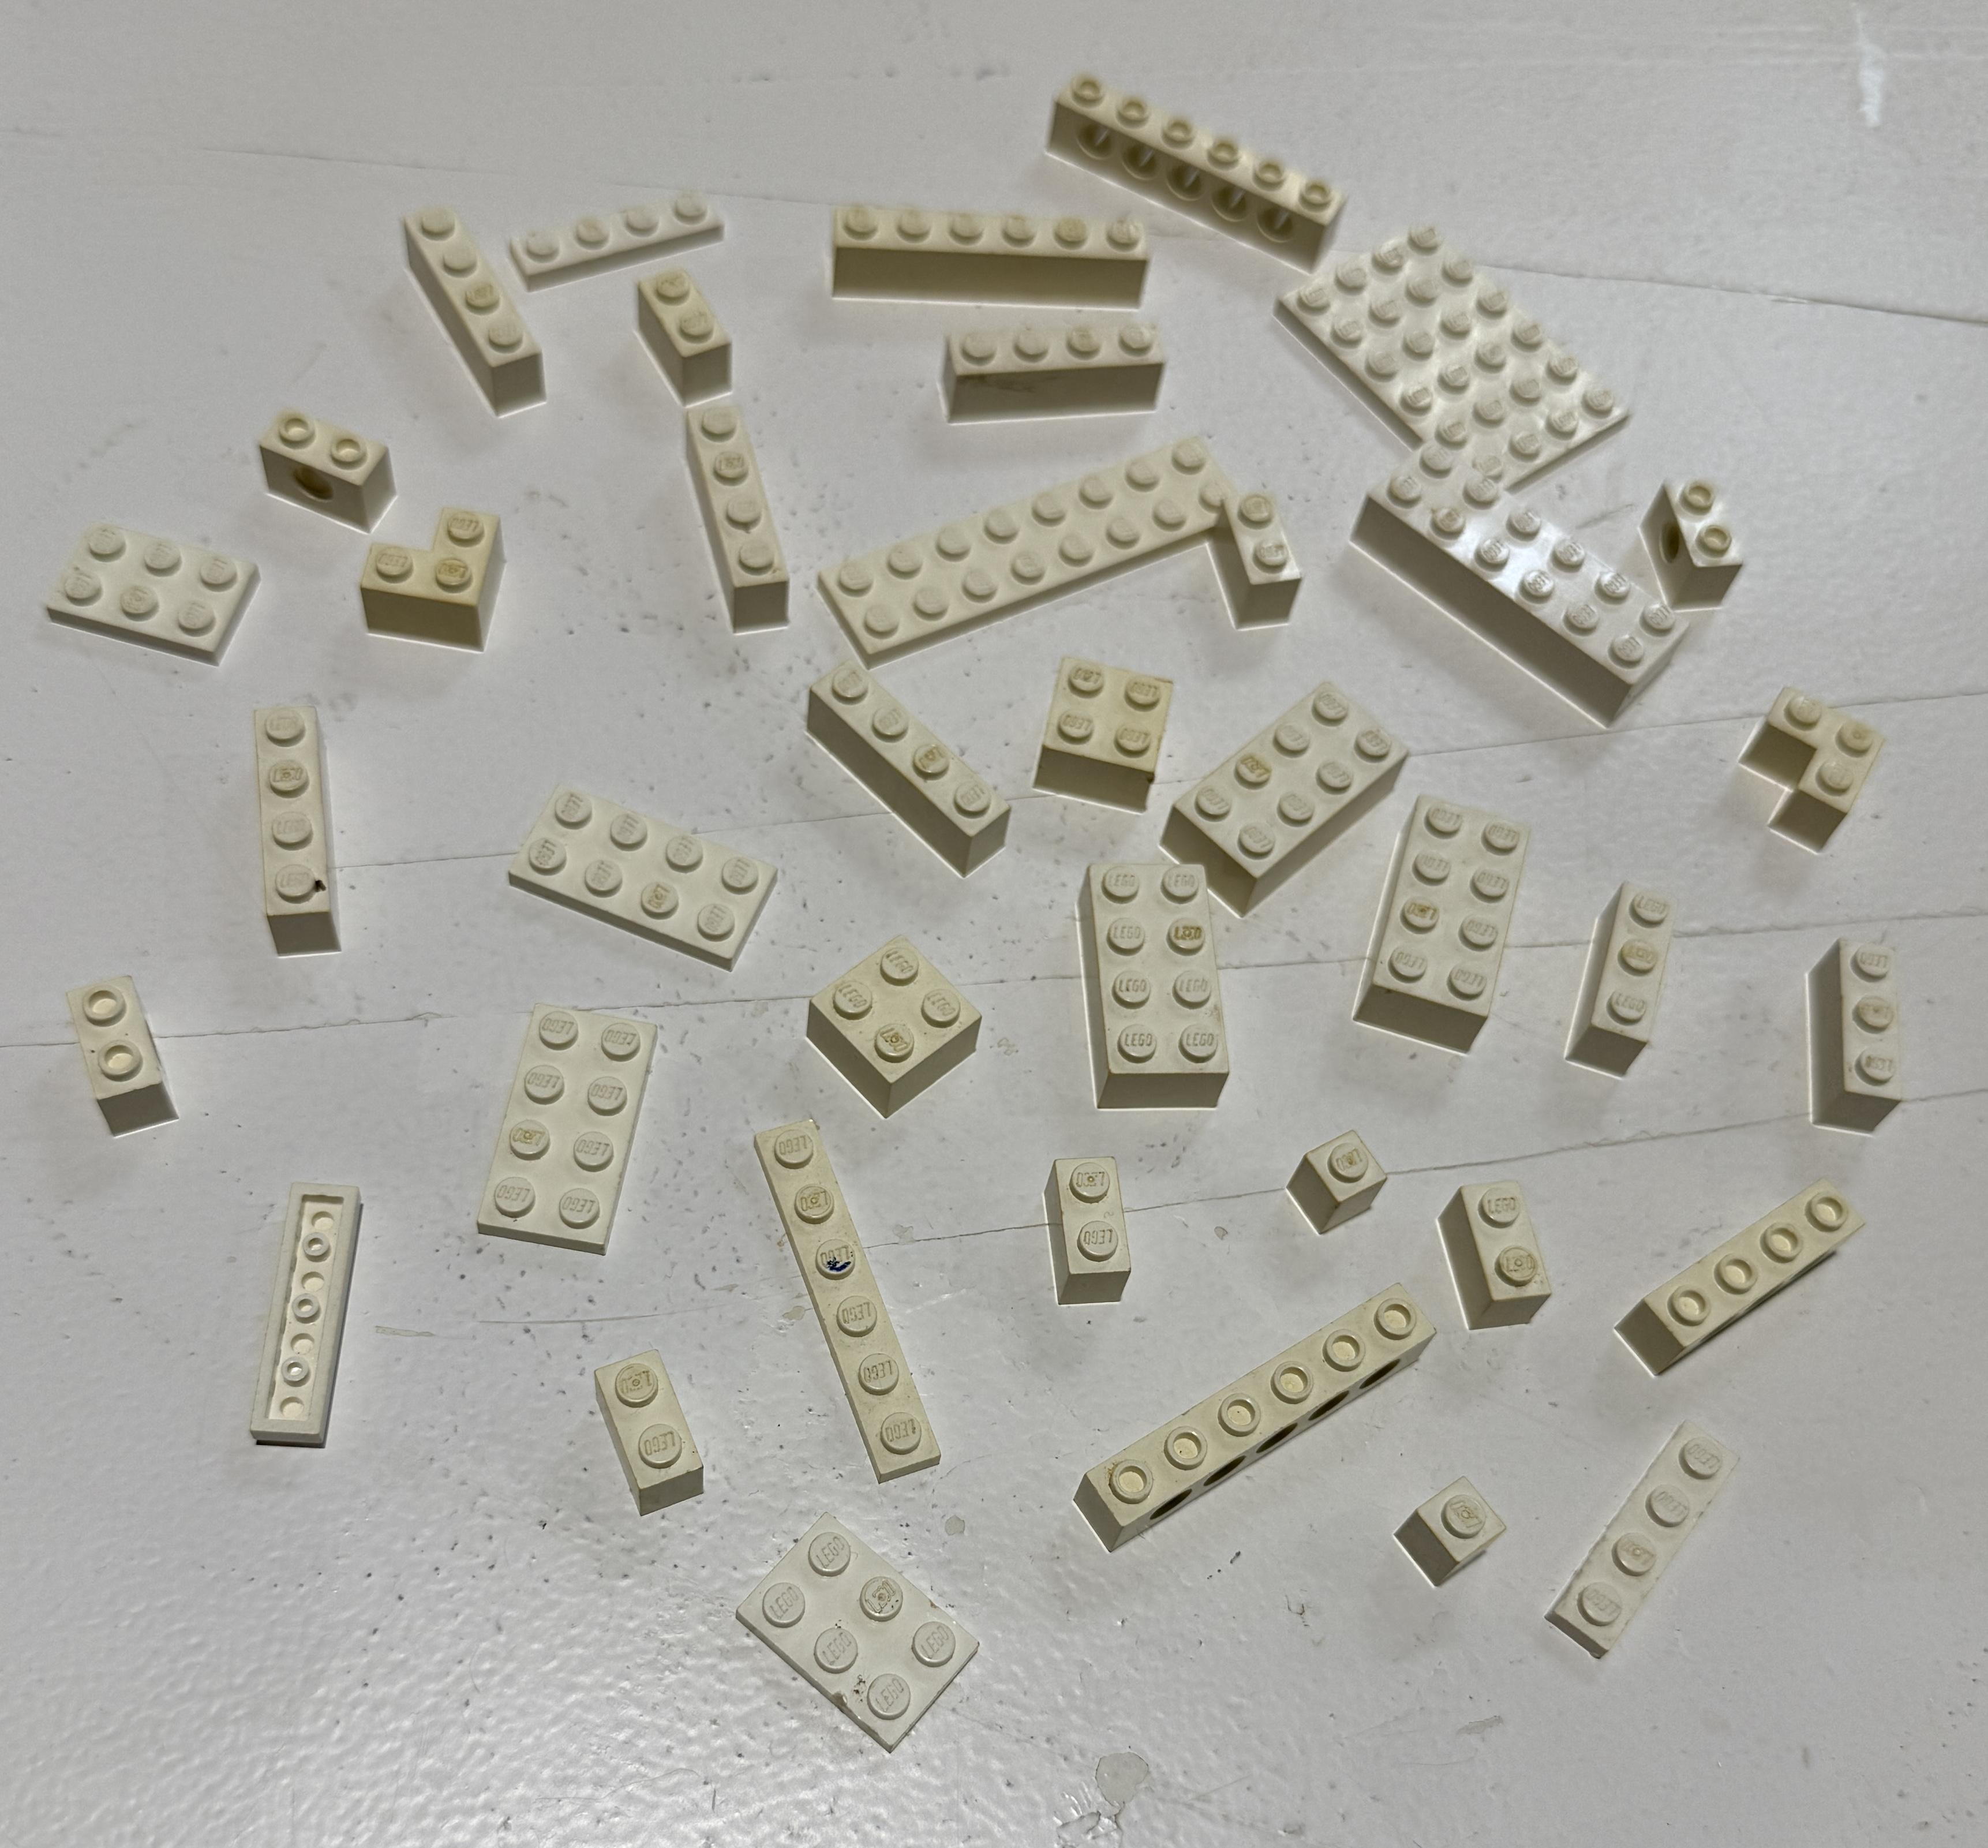brick_1x1: (1394, 1452, 1524, 1620), (1295, 1103, 1401, 1268)
brick_1x2: (1630, 445, 1809, 641), (575, 1315, 729, 1532), (602, 248, 762, 441), (1434, 1143, 1571, 1355), (231, 394, 425, 542), (1024, 1127, 1149, 1341), (40, 941, 167, 1127), (1200, 465, 1323, 634)
brick_1x3: (1780, 922, 1934, 1150), (1556, 870, 1703, 1094)
brick_1x4: (1578, 1160, 1889, 1398), (785, 641, 1007, 868), (231, 667, 372, 990), (384, 168, 557, 427), (912, 300, 1182, 432)
brick_2x2: (790, 922, 1019, 1134), (1016, 632, 1215, 827)
brick_2x4: (1156, 665, 1436, 927), (1340, 775, 1552, 1072), (1059, 841, 1247, 1127)
